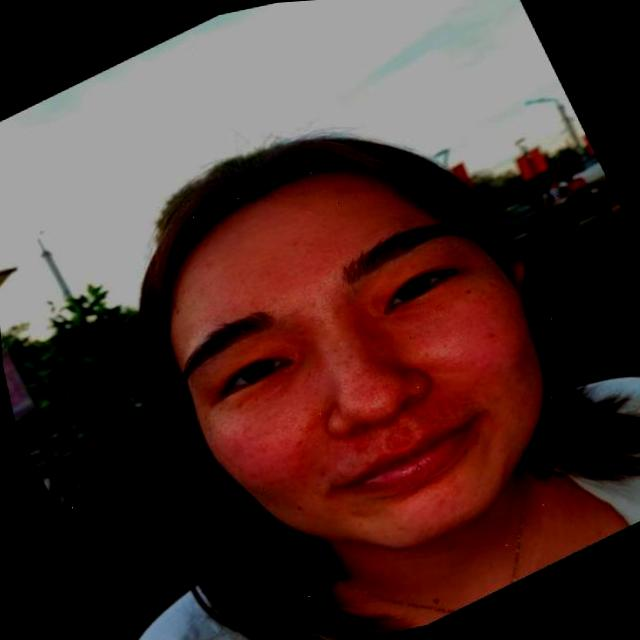blackhead: (282, 276, 339, 322), (346, 364, 387, 408)
nodules: (446, 402, 461, 414), (352, 442, 364, 453)
